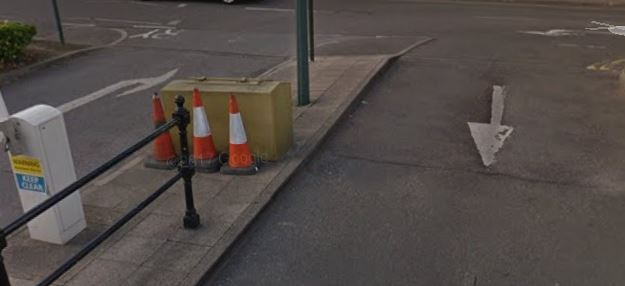cone: (185, 87, 226, 175), (213, 94, 256, 173), (145, 93, 182, 170)
